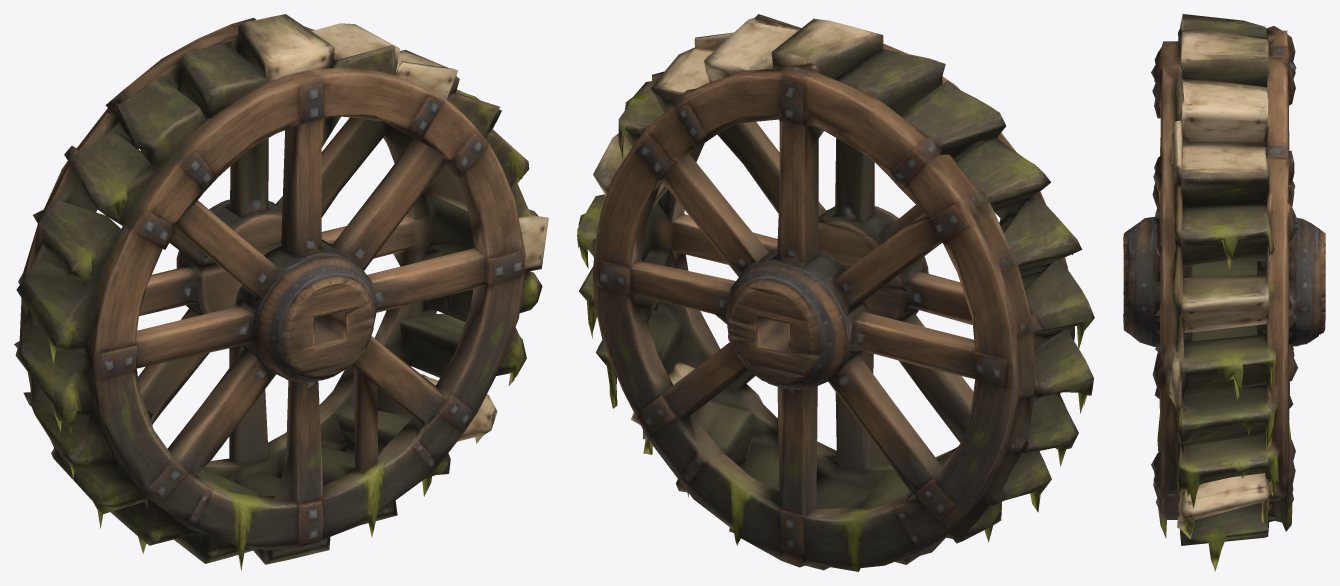
File: rueda-aserradero.glb
The picture shows the model from 3 angles, left to right: view 1: azimuth 30°, elevation 25°; view 2: azimuth 150°, elevation 25°; view 3: azimuth 270°, elevation 25°; orthographic projection. The views are drawn at different scales.
Visible parts, largest first — view 1: tripo_node_cdf4fd3d-43c9-4ec1-9dd0-71a64e7c8777; view 2: tripo_node_cdf4fd3d-43c9-4ec1-9dd0-71a64e7c8777; view 3: tripo_node_cdf4fd3d-43c9-4ec1-9dd0-71a64e7c8777.
Boxes of the visible parts, box(x1,y1,x2,y2) form: tripo_node_cdf4fd3d-43c9-4ec1-9dd0-71a64e7c8777: box(14, 14, 548, 570); tripo_node_cdf4fd3d-43c9-4ec1-9dd0-71a64e7c8777: box(577, 14, 1094, 571); tripo_node_cdf4fd3d-43c9-4ec1-9dd0-71a64e7c8777: box(1123, 14, 1325, 571).
Bounding box in the file's own units: 0.9813 × 0.961 × 0.3717.
1 material, 1 textured.
